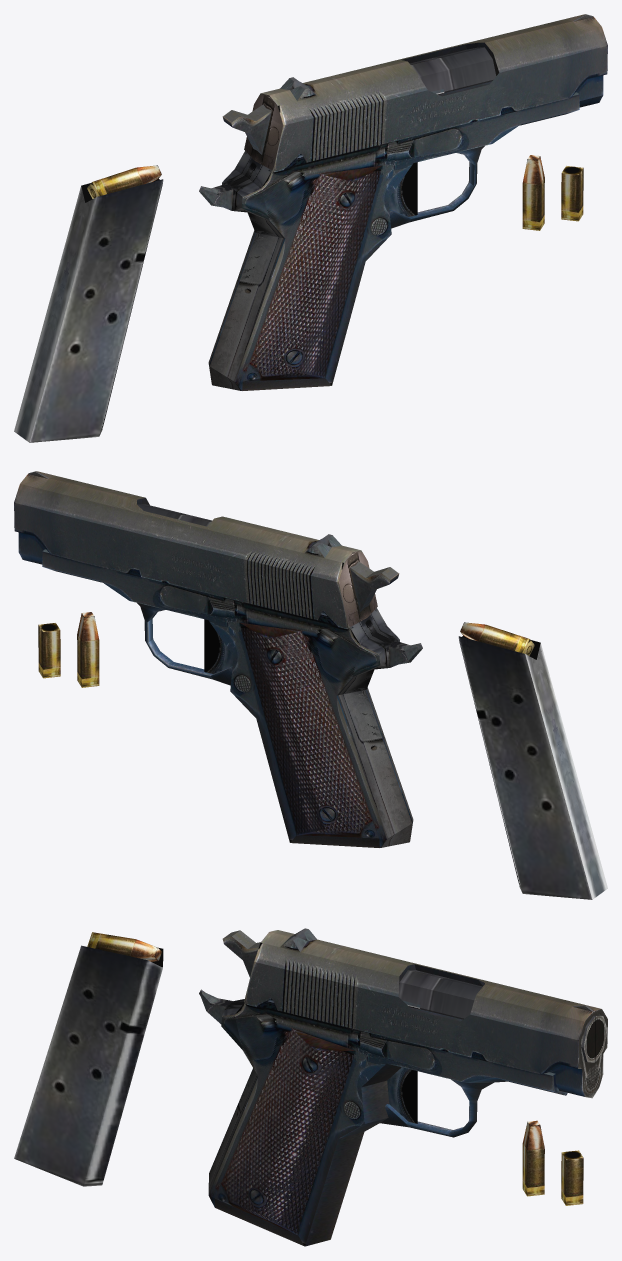
Rendered from Defender.obj.
3 views of the same model, one above another, from view 1: azimuth 30°, elevation 25°; view 2: azimuth 150°, elevation 25°; view 3: azimuth 330°, elevation 25° (orthographic).
Visible parts, largest first — view 1: Defender_Body, Defender_Slide, Defender_Mag_Full, 45ACP, Defender_Hammer, 45ACP_Shell, Defender_Trigger; view 2: Defender_Body, Defender_Slide, Defender_Mag_Full, 45ACP, Defender_Hammer, 45ACP_Shell, Defender_Trigger; view 3: Defender_Body, Defender_Slide, Defender_Mag_Full, 45ACP, Defender_Trigger, 45ACP_Shell, Defender_Hammer.
Boxes of the visible parts, x1,y1,x2,y2 form: Defender_Body: (199, 47, 579, 390); Defender_Slide: (244, 14, 607, 170); Defender_Mag_Full: (14, 165, 163, 442); 45ACP: (522, 155, 544, 230); Defender_Hammer: (222, 104, 271, 154); 45ACP_Shell: (561, 166, 583, 221); Defender_Trigger: (388, 162, 417, 216); Defender_Body: (42, 504, 422, 847); Defender_Slide: (14, 471, 377, 627); Defender_Mag_Full: (458, 622, 607, 899); 45ACP: (77, 612, 99, 687); Defender_Hammer: (350, 561, 399, 611); 45ACP_Shell: (38, 623, 60, 678); Defender_Trigger: (204, 619, 233, 673); Defender_Body: (199, 970, 607, 1246); Defender_Slide: (244, 928, 607, 1098); Defender_Mag_Full: (14, 932, 163, 1186); 45ACP: (522, 1120, 544, 1196); Defender_Trigger: (387, 1067, 417, 1123); 45ACP_Shell: (561, 1150, 583, 1205); Defender_Hammer: (222, 930, 260, 976).
Bounding box in the file's own units: 2.83 × 1.41 × 0.3399.
6 materials, 6 textured.
